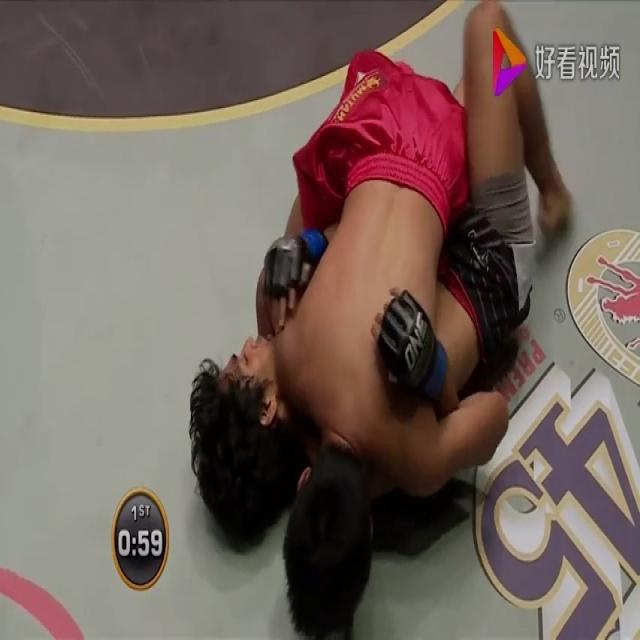fight: (187, 0, 578, 639)
